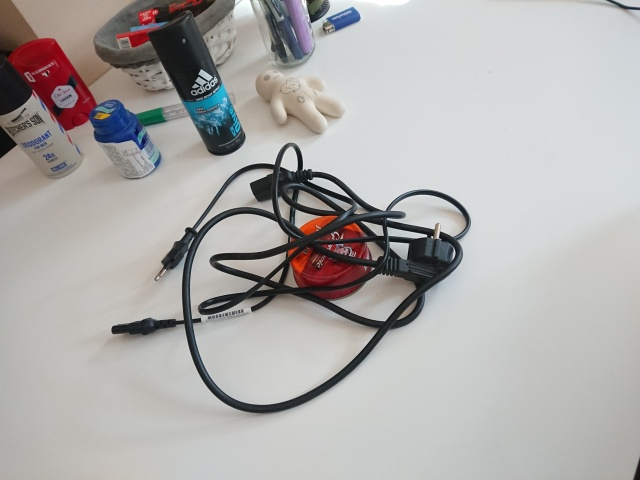Gavrilovic Pork Liver Pate 100g: (286, 213, 374, 303)
